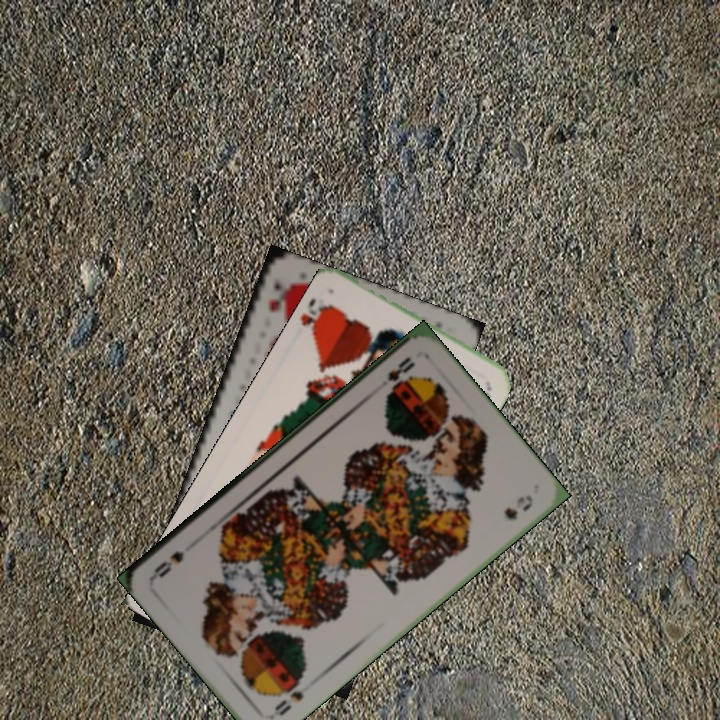HK: (263, 279, 284, 316)
HO: (296, 295, 336, 342)
SO: (383, 352, 418, 391), (270, 686, 306, 719)
